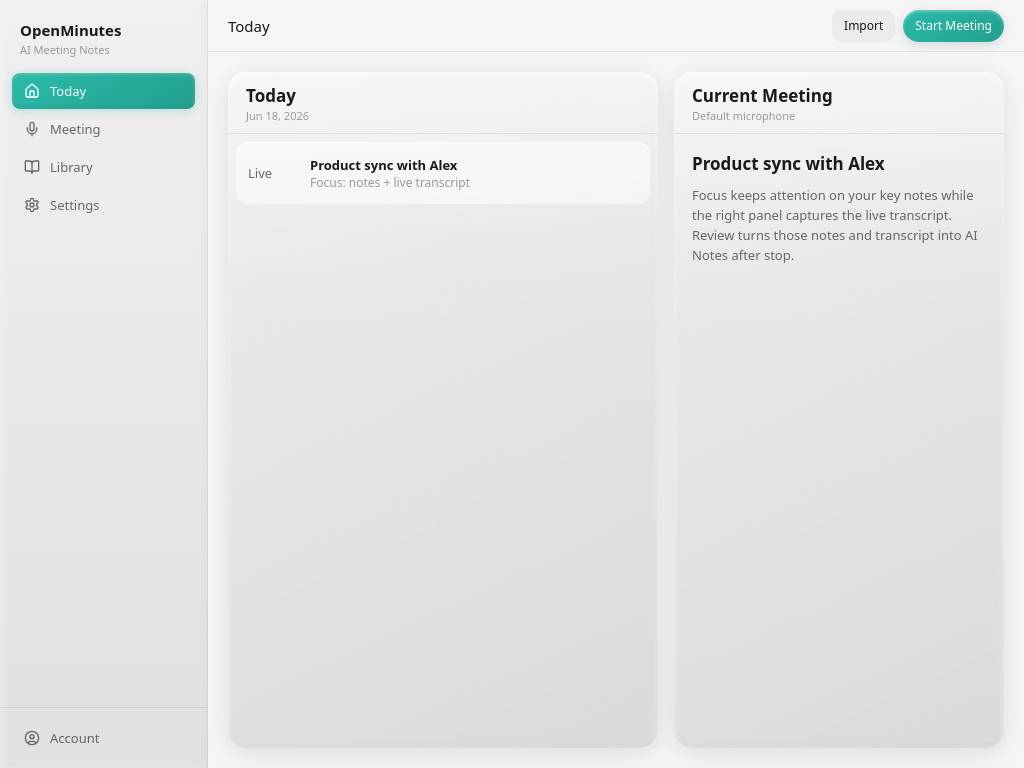
Test: App › shows live transcript while recording and AI Notes after stop
The width and height of the screenshot is (1024, 768).
Click the button "Meeting" at (104, 129), box [12,111,195,147]
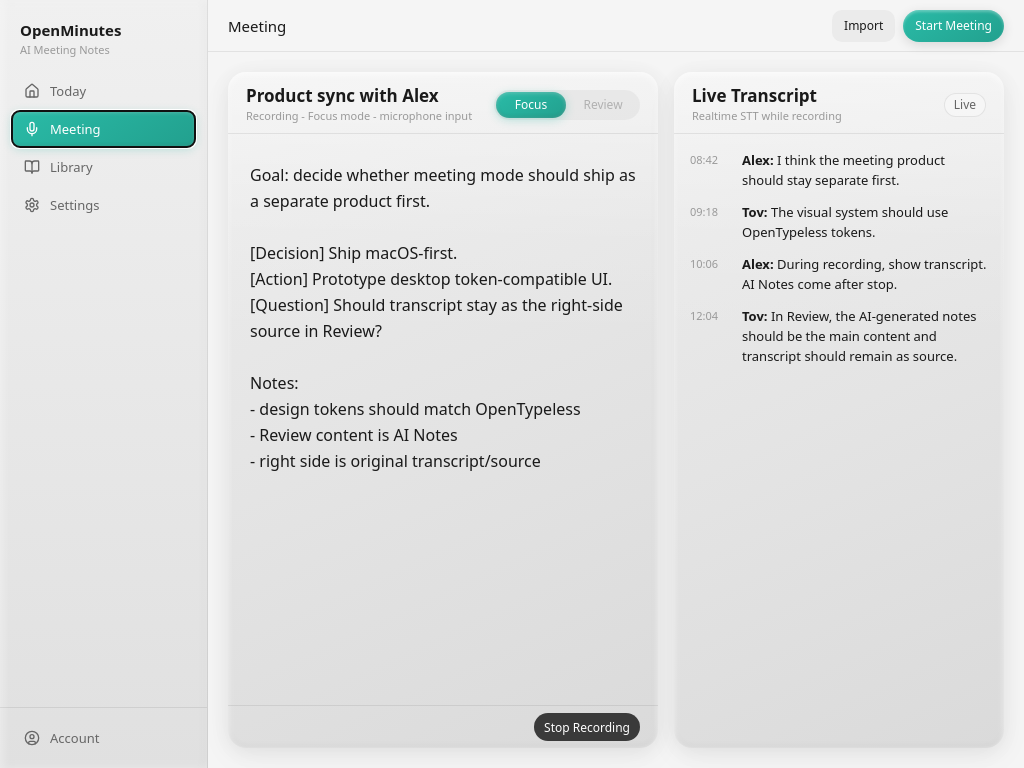
Expected: the element "Live Transcript" is shown, [674,72,1004,748]
Click the button with aria-label "stop recording from meeting" at (587, 727), box [534,713,640,741]
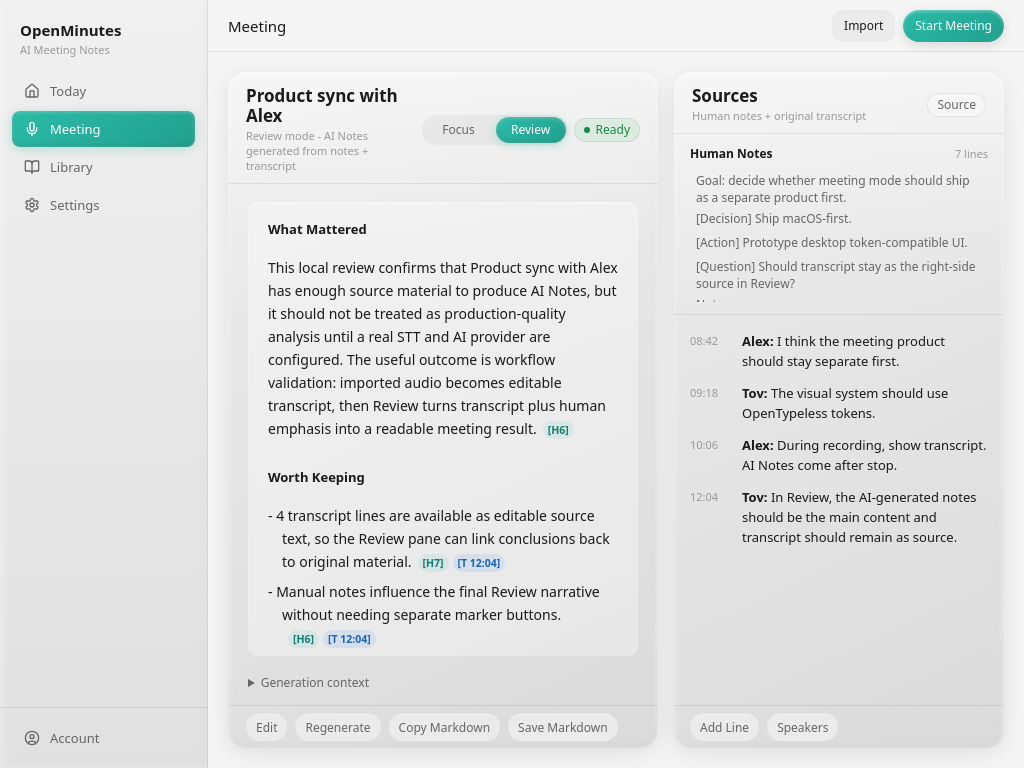
Expected: the element named "ai notes" is shown, [228,184,658,705]
Expected: the text "local review confirms that Product sync with Alex" is shown, [268,258,621,438]
Expected: the element "Sources" is shown, [674,72,1004,748]
